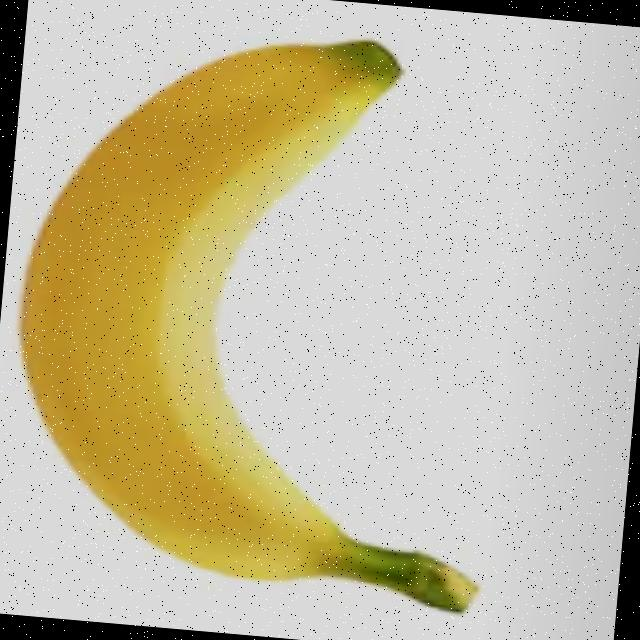Ripe: (0, 11, 527, 617)
